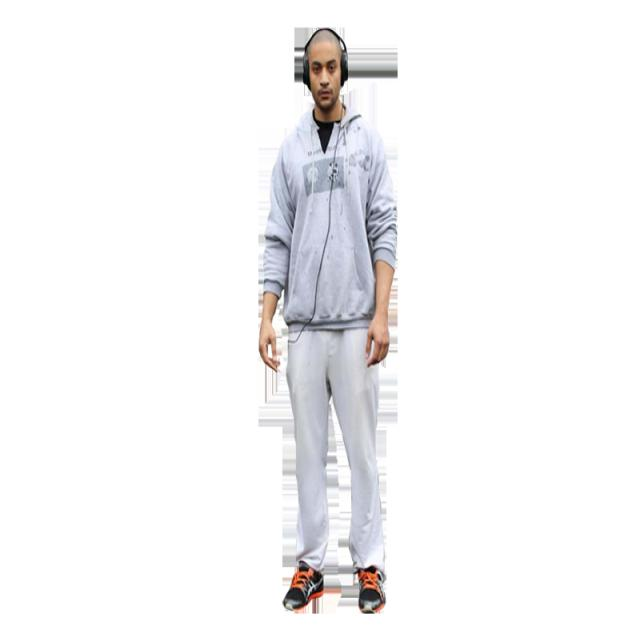jovem: (255, 31, 412, 608)
